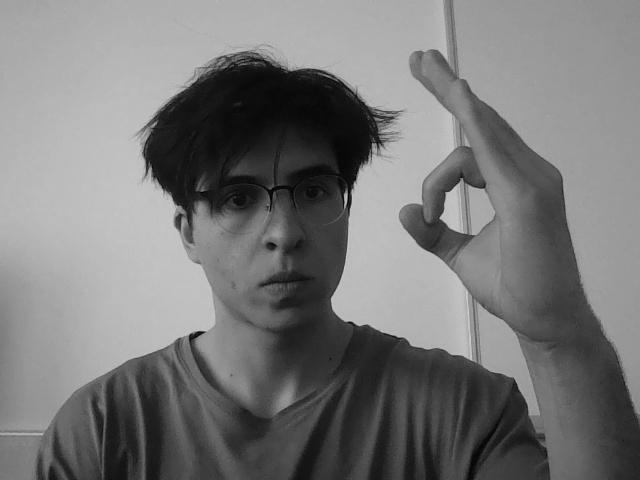OK: (401, 40, 596, 333)
